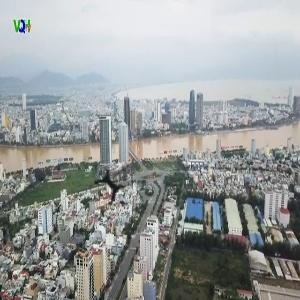drone: (77, 152, 148, 223)
